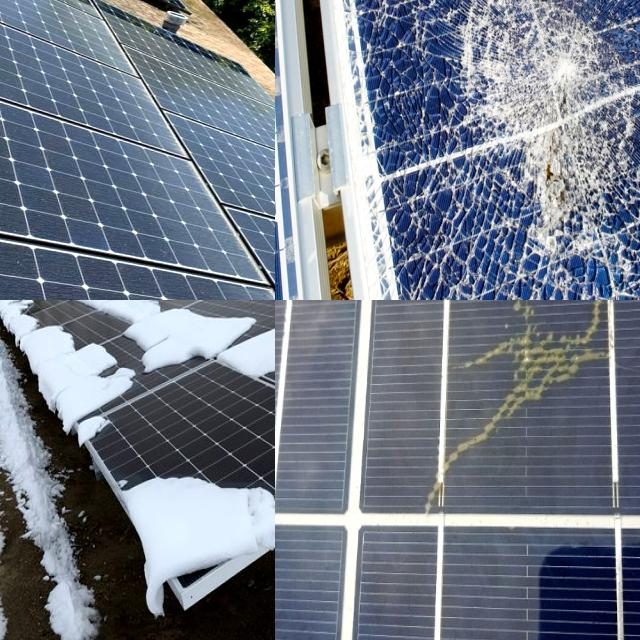dust: (76, 6, 221, 160), (0, 92, 108, 219), (110, 172, 238, 258), (0, 0, 97, 51)
hotspot: (452, 0, 628, 265)
panel: (119, 454, 275, 596), (36, 306, 142, 412), (136, 308, 219, 389), (73, 300, 178, 330), (221, 318, 275, 373), (195, 300, 265, 338), (29, 300, 85, 330), (0, 300, 43, 330)
shadow: (397, 300, 630, 527)
